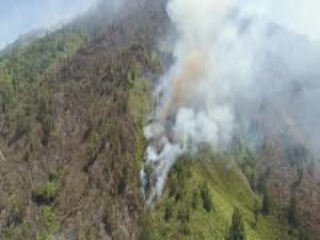smoke: (141, 8, 266, 201)
